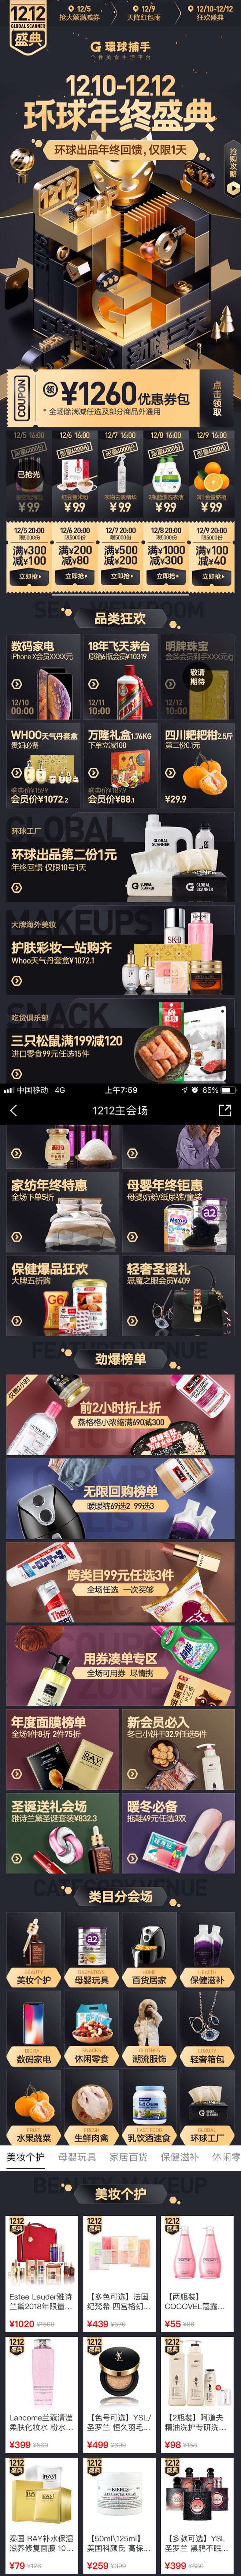floors: (5, 1345, 236, 1875), (5, 2180, 236, 2574), (5, 1881, 238, 2146), (0, 370, 241, 595), (2, 606, 241, 810), (3, 905, 239, 997), (3, 817, 239, 902), (3, 1001, 238, 1083)
toutu: (0, 0, 241, 368)
